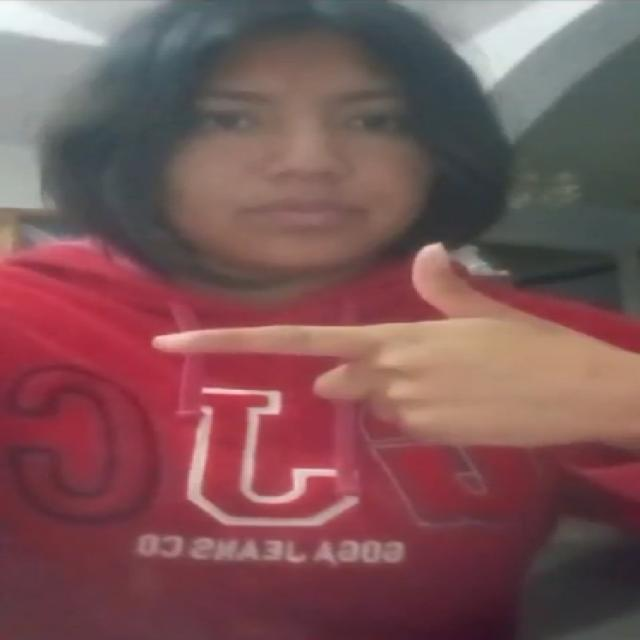G: (105, 210, 638, 470)
